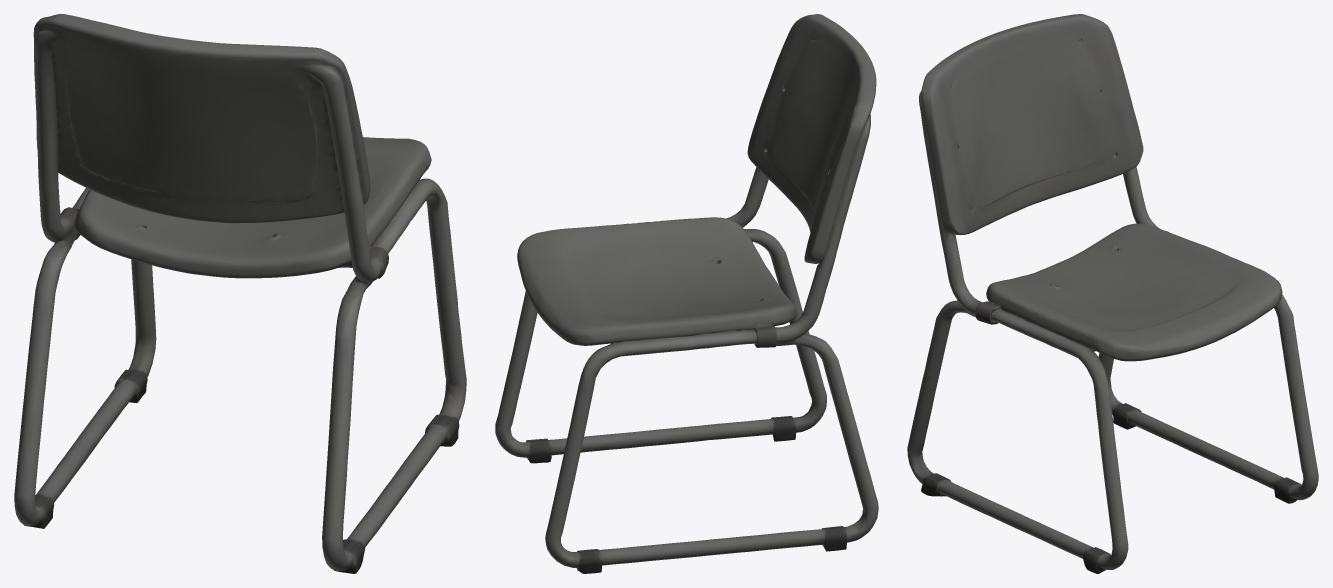
File: visitor-chair.glb
3 renders of one model, left to right at view 1: azimuth 30°, elevation 25°; view 2: azimuth 150°, elevation 25°; view 3: azimuth 270°, elevation 25°, orthographic. The views are drawn at different scales.
Parts seen in each view (by area): view 1: tripo_node_01a2180b-08c4-72cb-902a-e551b57ebbb0; view 2: tripo_node_01a2180b-08c4-72cb-902a-e551b57ebbb0; view 3: tripo_node_01a2180b-08c4-72cb-902a-e551b57ebbb0.
Boxes of the visible parts, bbox=[...] form: tripo_node_01a2180b-08c4-72cb-902a-e551b57ebbb0: bbox=[14, 14, 466, 573]; tripo_node_01a2180b-08c4-72cb-902a-e551b57ebbb0: bbox=[495, 14, 878, 573]; tripo_node_01a2180b-08c4-72cb-902a-e551b57ebbb0: bbox=[907, 14, 1318, 573].
Size of the model in its own units: 0.9056 by 1 by 0.9117.
1 material, 1 textured.
